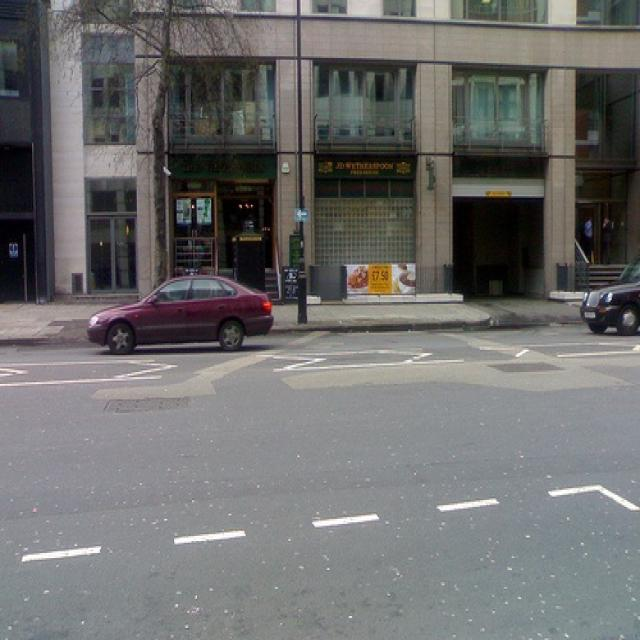car: (83, 268, 277, 357), (577, 253, 639, 338)
